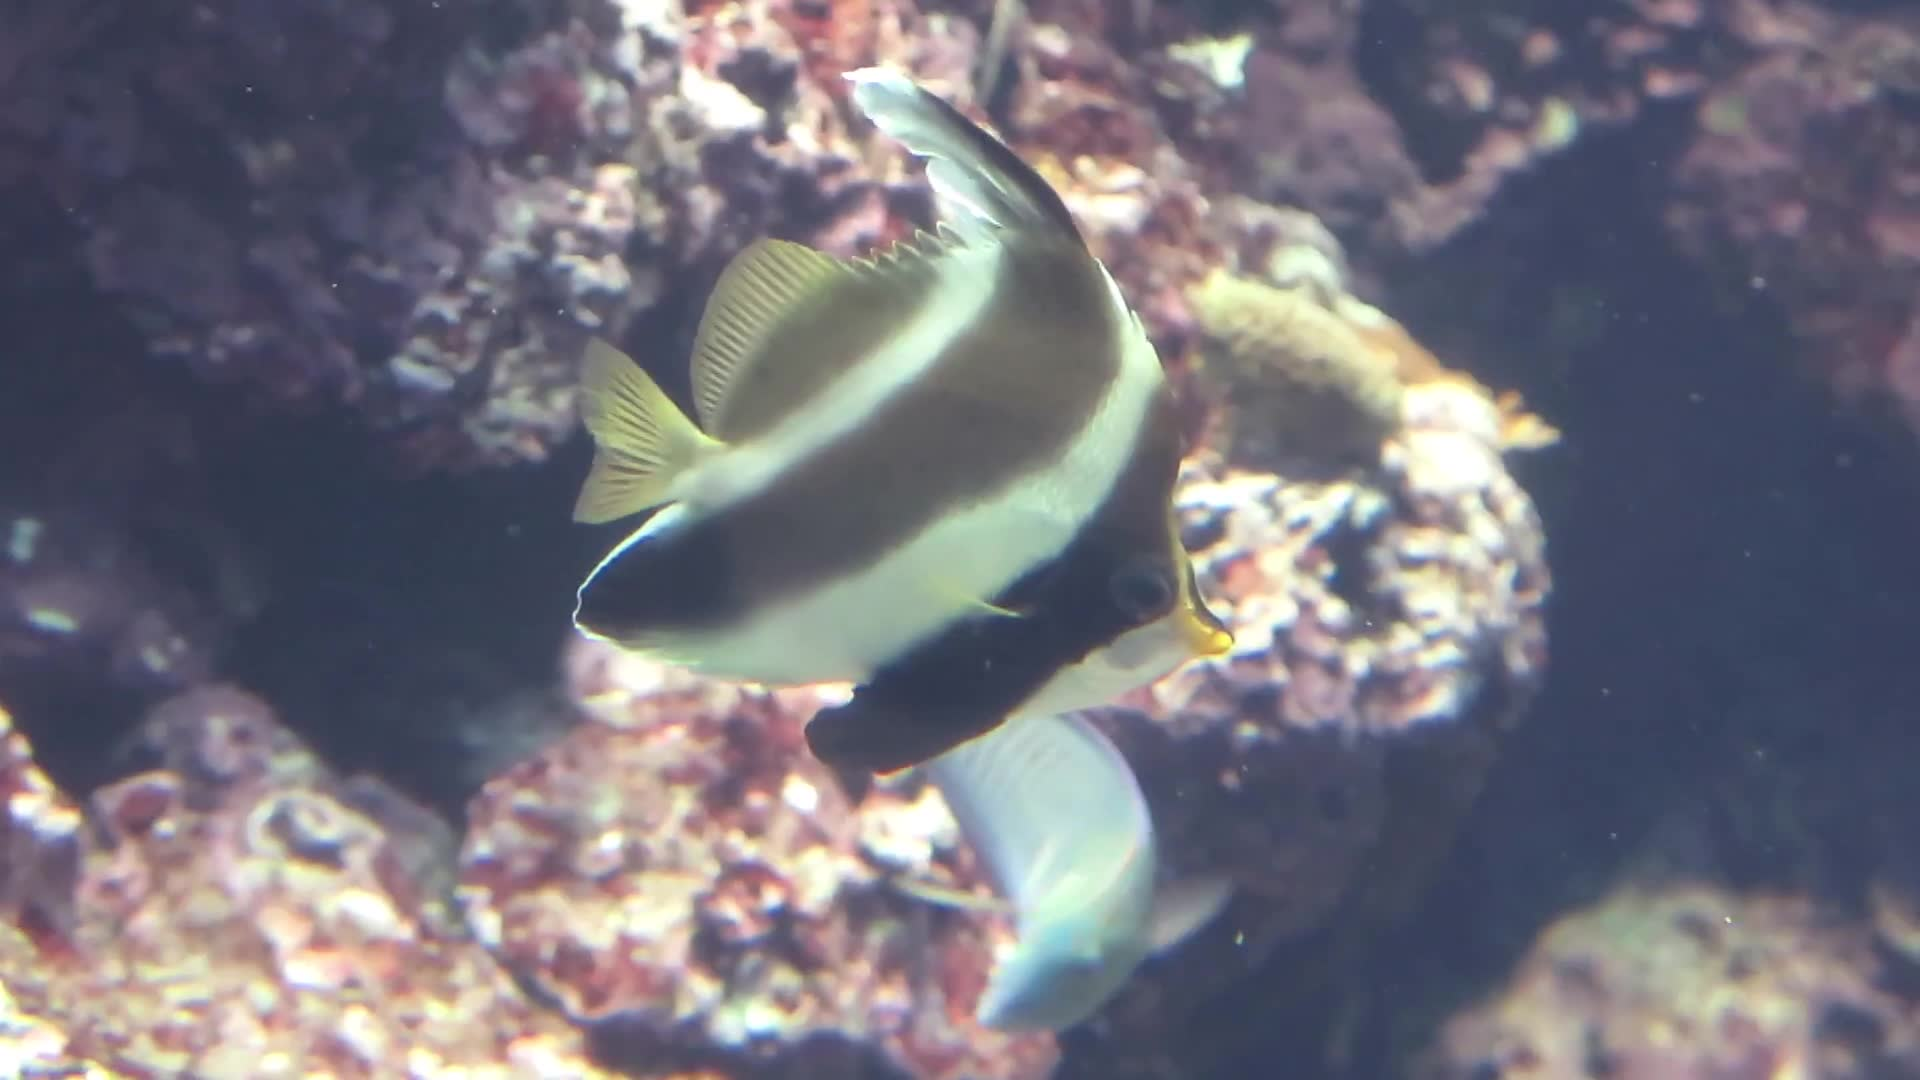Heniochus chrysostomus: (525, 80, 1266, 791)
